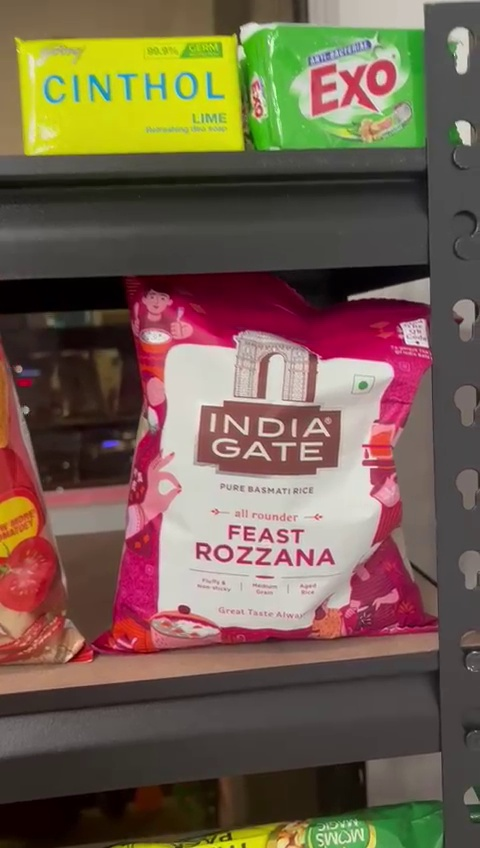Cinthol: (16, 39, 253, 156)
Exo Soap: (245, 22, 426, 150)
India Gate Feast Rozzana: (125, 286, 432, 635)
